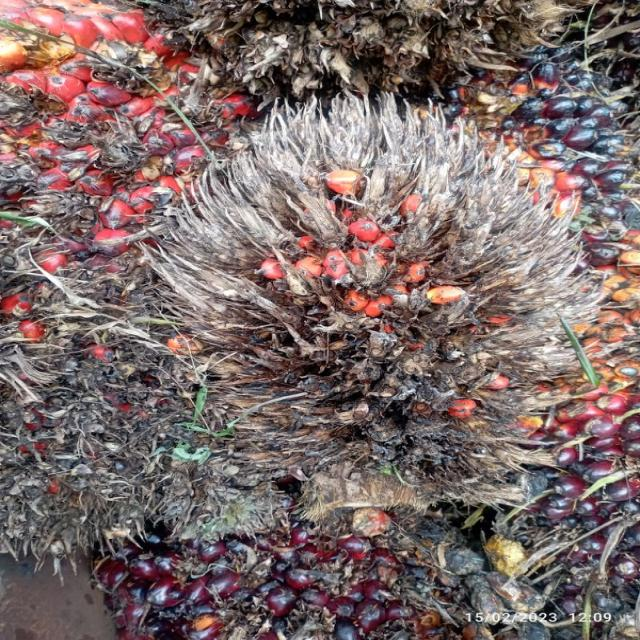fraksi 3: (0, 0, 245, 330)
fraksi 4: (159, 71, 617, 491)
